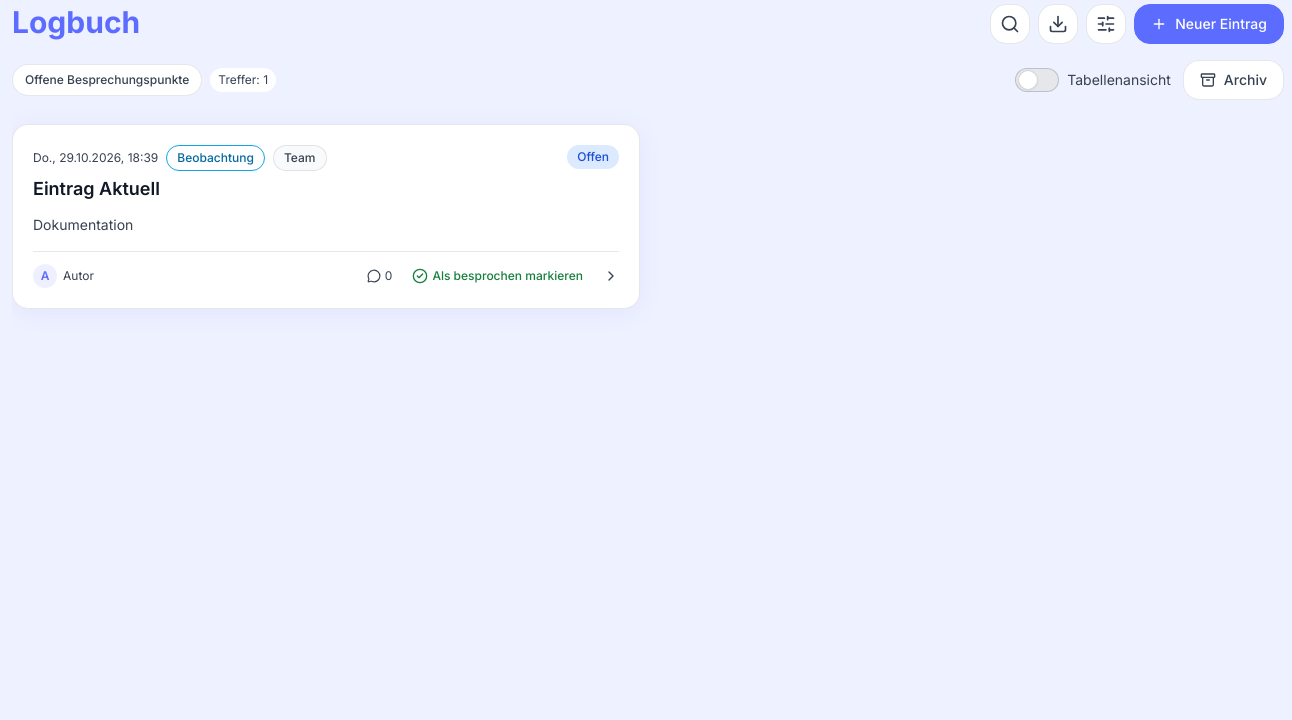
Test: Logbook archive navigation › shows archived entries in the table and resets pagination when returning
Click the switch labelled "Tabellenansicht".
click(1093, 80)  # box [1015,60,1171,100]
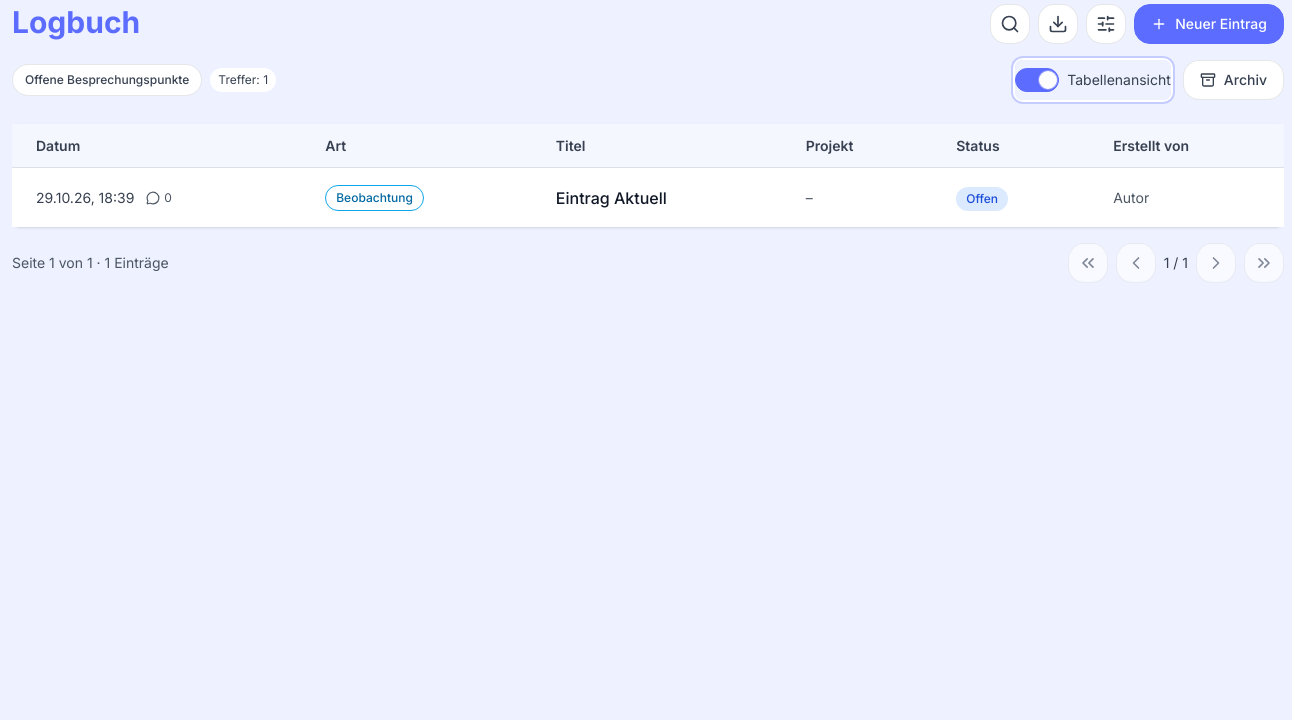
Click the button "Archiv".
click(1233, 80)  # box [1183,60,1284,100]
(page scrolled)
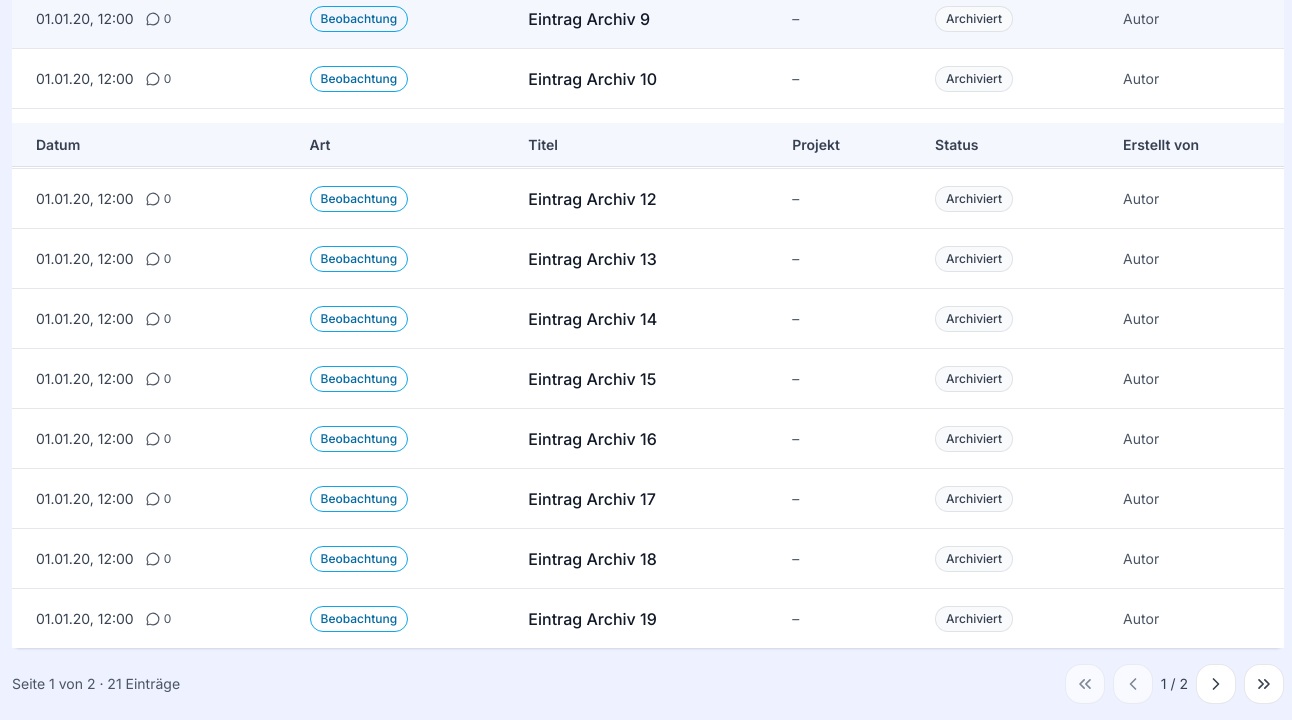
Click the button named "Nächste Seite".
click(1216, 684)  # box [1196,664,1236,704]
(page scrolled)
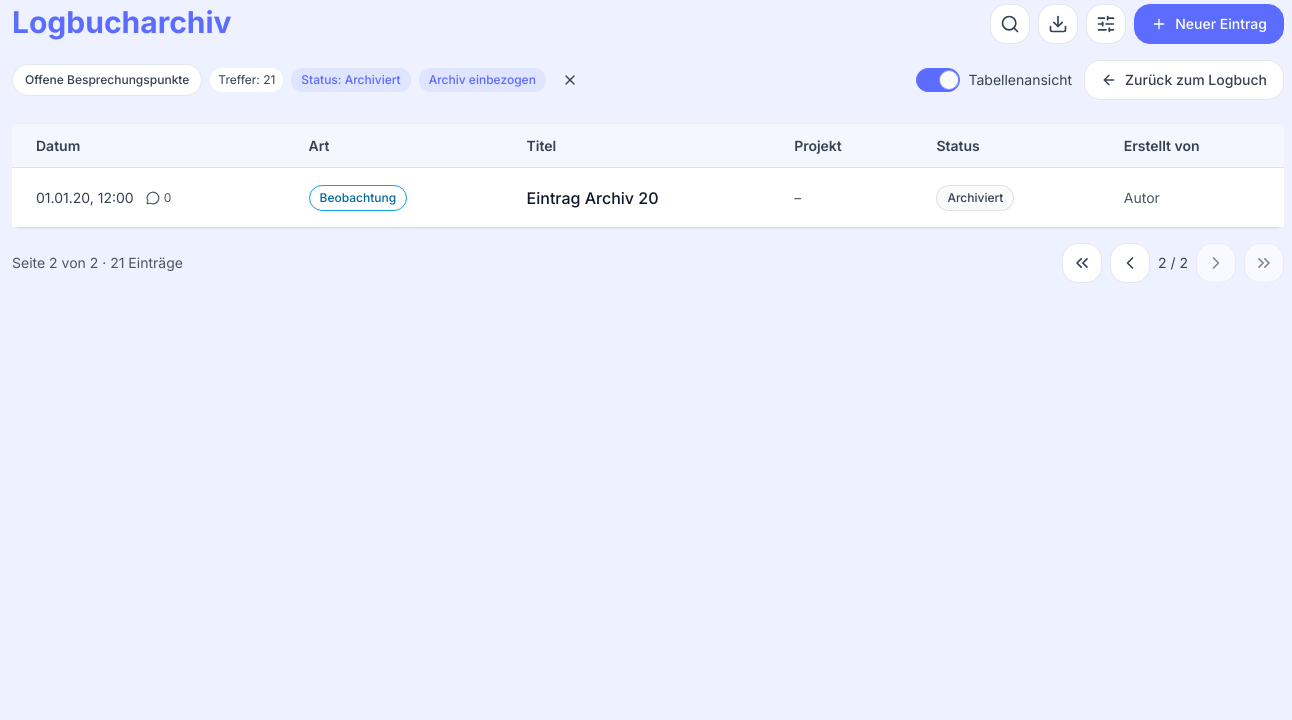
Expected: the text "Eintrag Archiv 20" is shown, [527,188,658,208]
Click the button "Zurück zum Logbuch".
click(1184, 80)  # box [1084,60,1284,100]
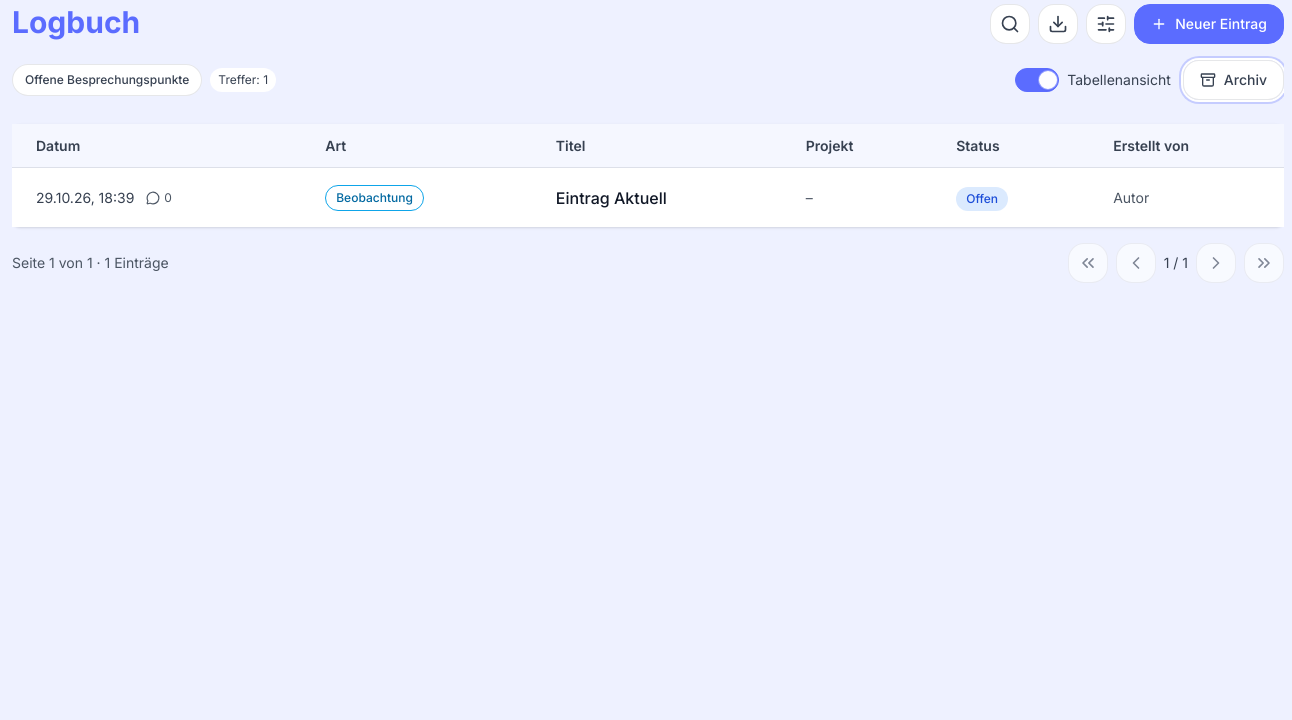
Expected: the text "Eintrag Aktuell" is shown, [556,188,667,208]
Expected: the text "Eintrag Archiv 20" is gone
